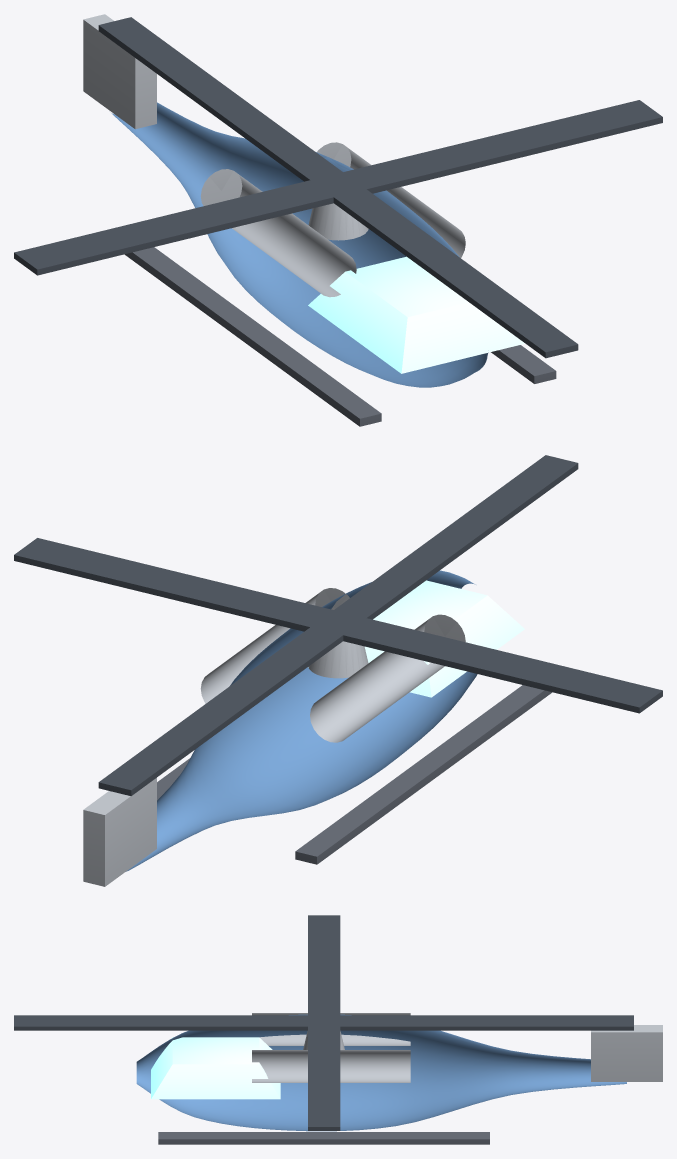
File: shad.glb
3 views of the same model, one above another, from view 1: azimuth 30°, elevation 25°; view 2: azimuth 150°, elevation 25°; view 3: azimuth 270°, elevation 25° (orthographic). The views are drawn at different scales.
Parts seen in each view (by area): view 1: Hull, Rotor; view 2: Hull, Rotor; view 3: Hull, Rotor.
Boxes of the visible parts, <box> form: Hull: <box>83,20,556,426</box>; Rotor: <box>14,14,662,358</box>; Hull: <box>83,571,551,886</box>; Rotor: <box>14,455,662,814</box>; Hull: <box>136,1015,662,1144</box>; Rotor: <box>14,915,662,1130</box>.
Size of the model in its own units: 3.61 by 0.8439 by 4.68.
